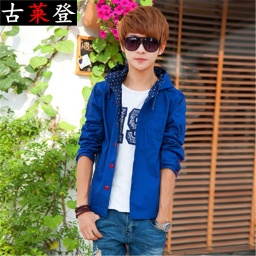face: (117, 5, 170, 74)
